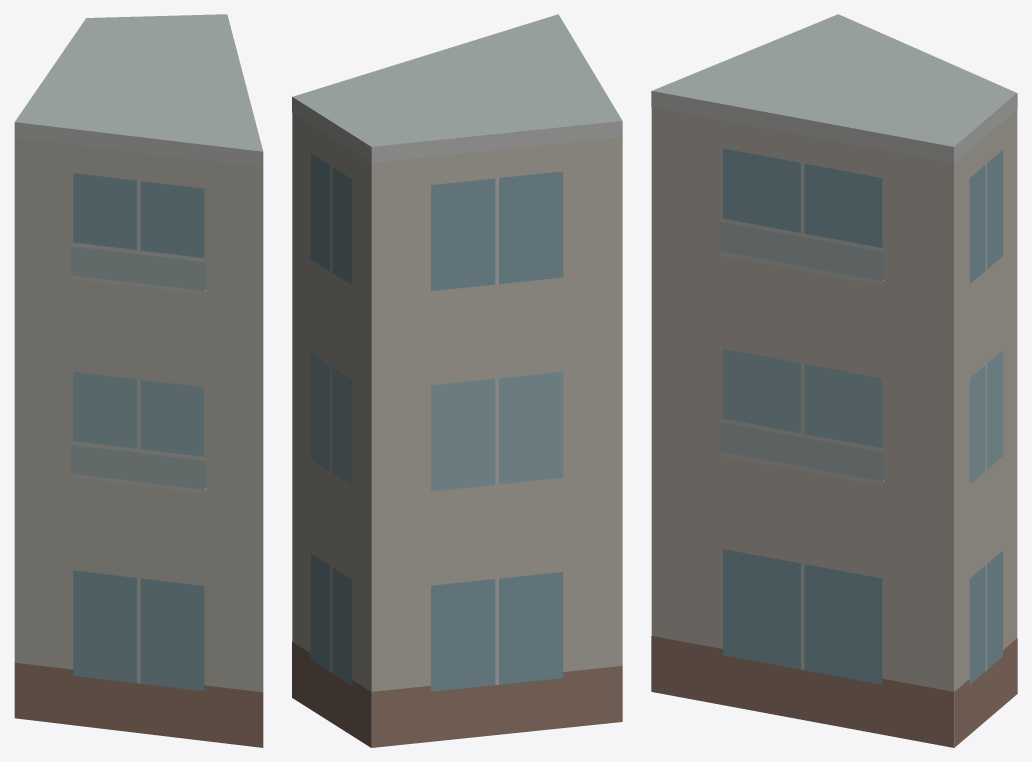
The model's file is survey-upis-32927638.glb.
3 renders of one model, left to right at view 1: azimuth 30°, elevation 25°; view 2: azimuth 150°, elevation 25°; view 3: azimuth 270°, elevation 25°, orthographic.
Visible parts, largest first — view 1: survey-upis-32927638.tmp; view 2: survey-upis-32927638.tmp; view 3: survey-upis-32927638.tmp.
Part boxes in pixels (x1=…): survey-upis-32927638.tmp: x1=14, y1=14, x2=263, y2=747; survey-upis-32927638.tmp: x1=292, y1=14, x2=622, y2=747; survey-upis-32927638.tmp: x1=651, y1=14, x2=1017, y2=747.
Size of the model in its own units: 4.35 by 9.15 by 5.06.
